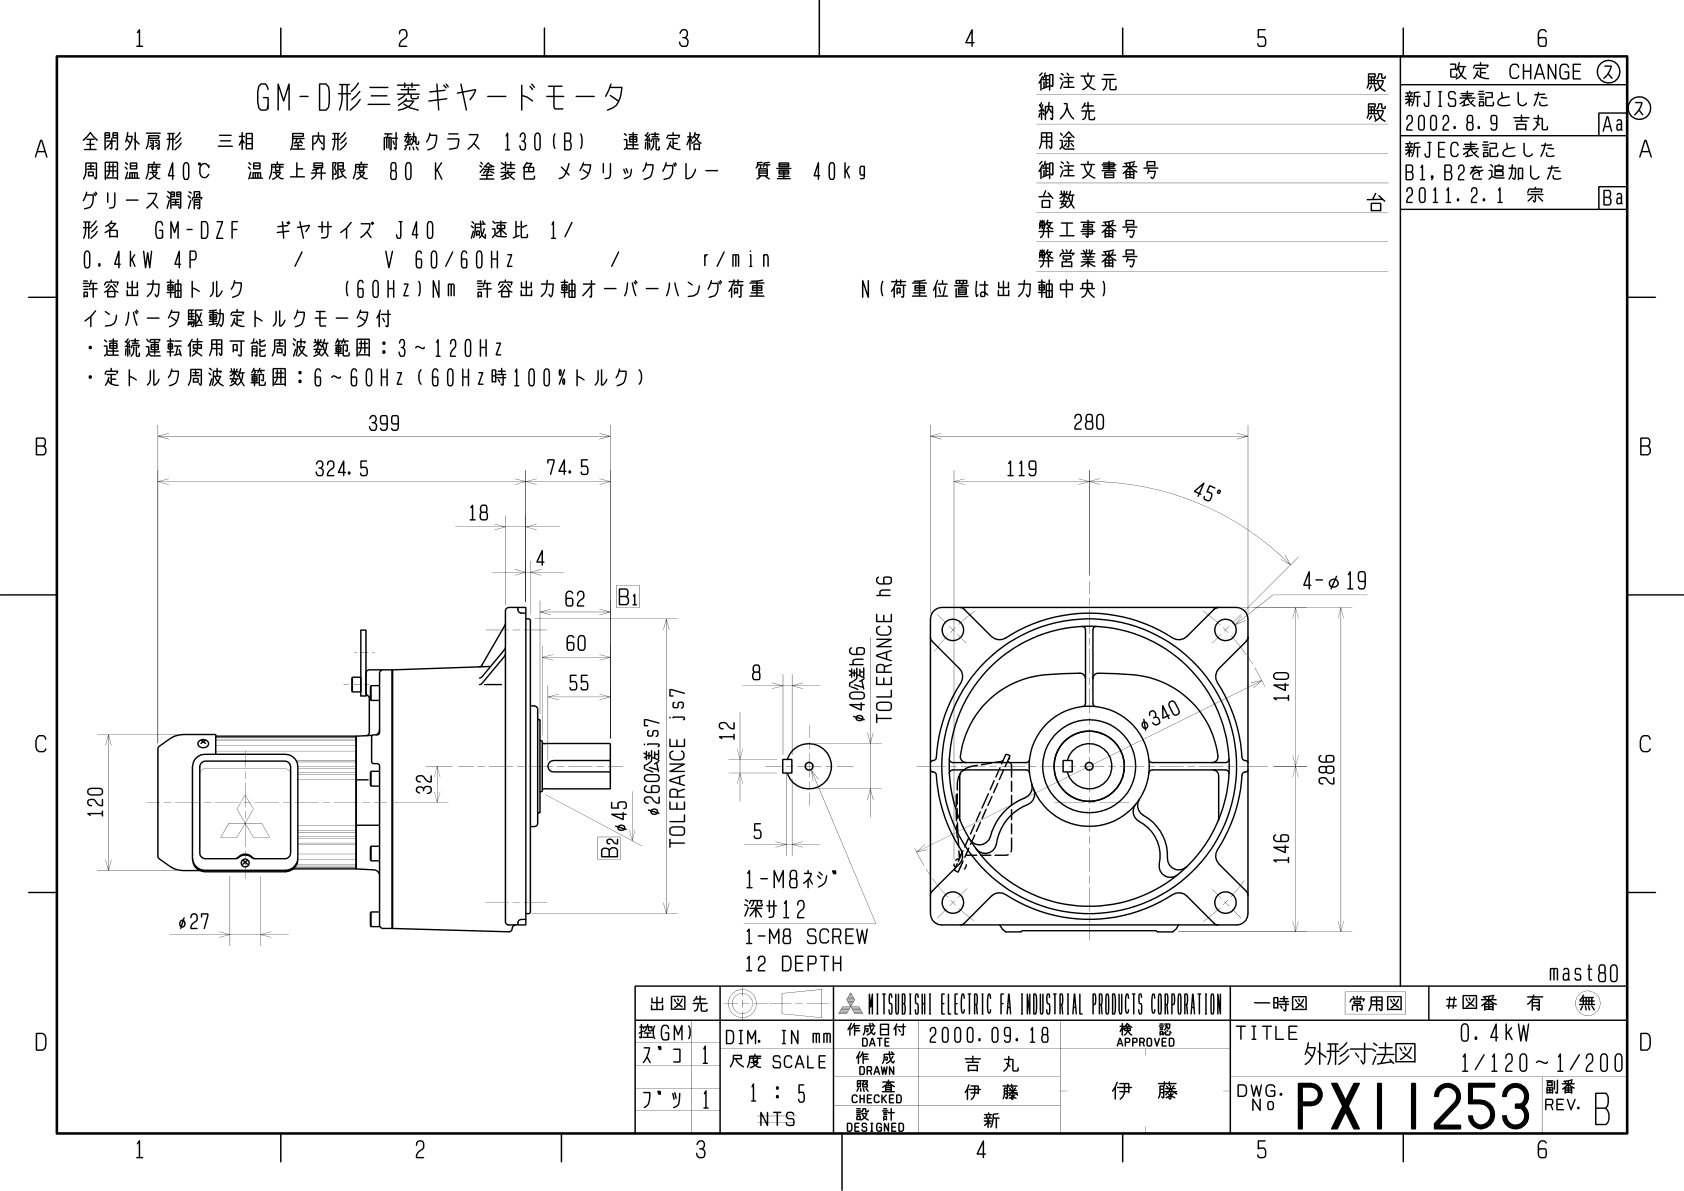GM_D_インバータ屋内_三相_フランジ: (15, 6, 1684, 1176)
